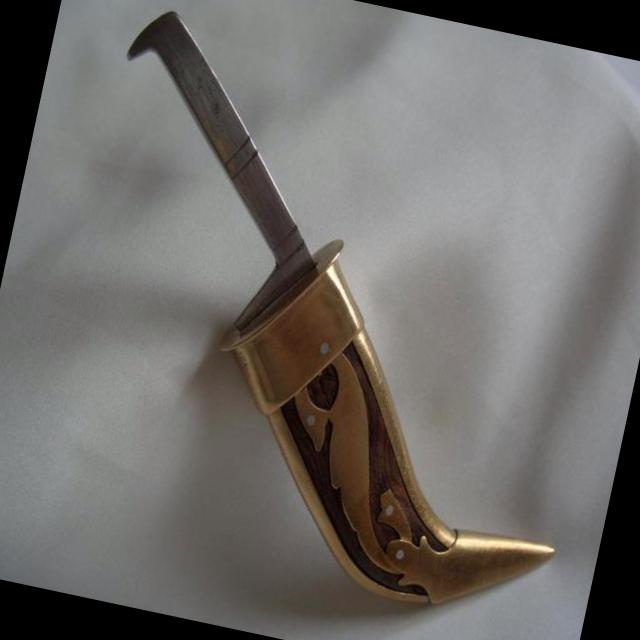Knife: (127, 13, 554, 603)
